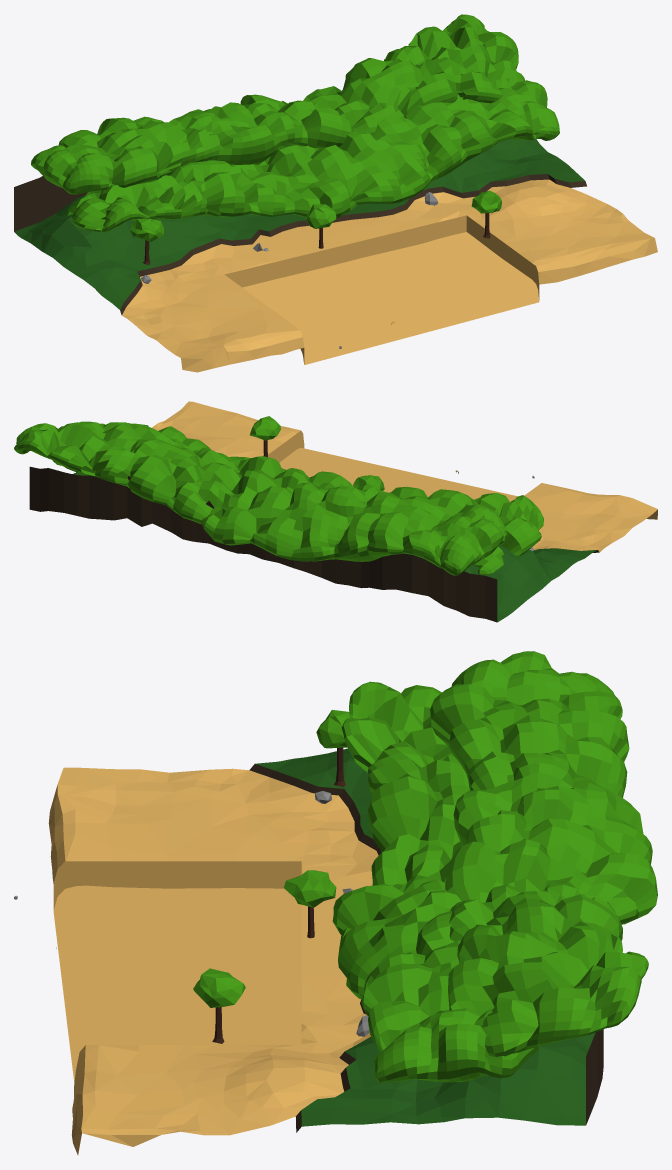
File: landscape_test.glb
The picture shows the model from 3 angles, top to bottom: view 1: azimuth 30°, elevation 25°; view 2: azimuth 150°, elevation 25°; view 3: azimuth 270°, elevation 25°; orthographic projection. The views are drawn at different scales.
Visible parts, largest first — view 1: Arena, TREETOPS.003, TREETOPS.002, Icosphere.008, Icosphere.010, Icosphere.009; view 2: TREETOPS.003, Arena, TREETOPS.002, Icosphere.009; view 3: Arena, TREETOPS.003, TREETOPS.002, Icosphere.009, Icosphere.010, Icosphere.008.
Part boxes in pixels (<box>): Arena: <box>14,139,657,372</box>; TREETOPS.003: <box>31,14,524,194</box>; TREETOPS.002: <box>65,78,559,232</box>; Icosphere.008: <box>130,218,163,241</box>; Icosphere.010: <box>306,204,336,228</box>; Icosphere.009: <box>471,190,501,213</box>; TREETOPS.003: <box>14,421,507,575</box>; Arena: <box>29,401,657,622</box>; TREETOPS.002: <box>52,422,543,575</box>; Icosphere.009: <box>249,416,280,440</box>; Arena: <box>48,748,603,1154</box>; TREETOPS.003: <box>430,651,657,1056</box>; TREETOPS.002: <box>332,681,538,1082</box>; Icosphere.009: <box>193,968,245,1007</box>; Icosphere.010: <box>283,870,336,907</box>; Icosphere.008: <box>316,710,349,748</box>.
Bounding box in the file's own units: 33.47 × 8.42 × 23.71.
